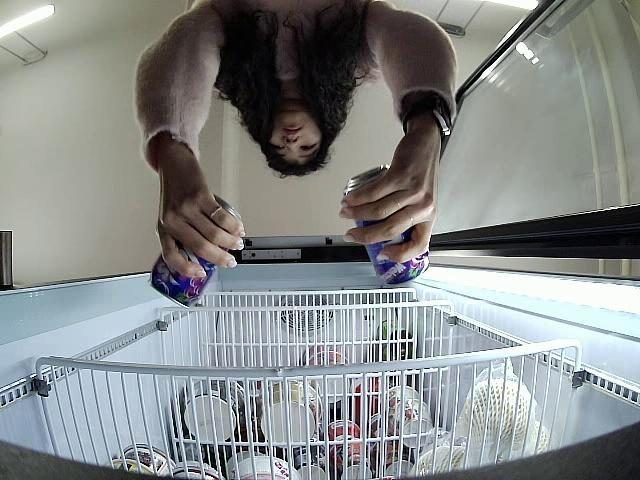14_welchsGrape: (150, 193, 240, 311), (345, 164, 429, 287)
